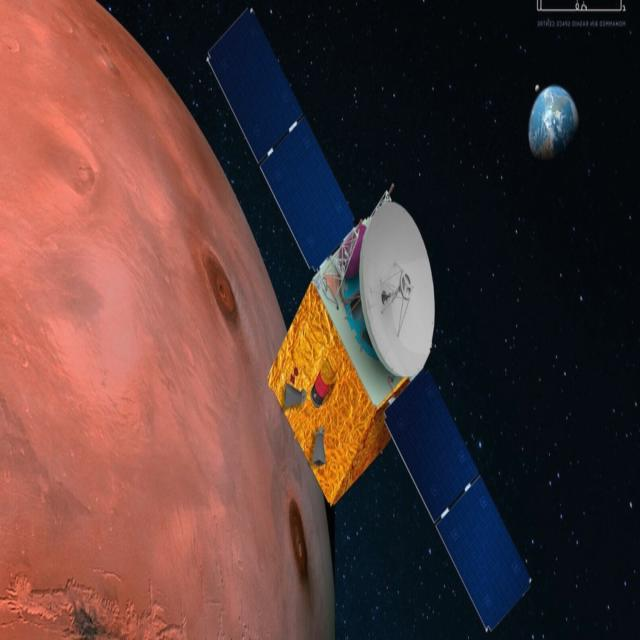medium_debris: (212, 0, 530, 640)
